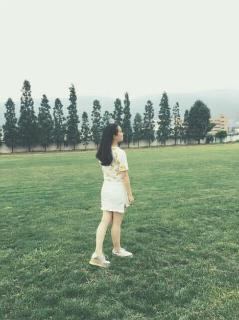short sleeve top: (99, 147, 129, 182)
skirt: (101, 180, 130, 213)
